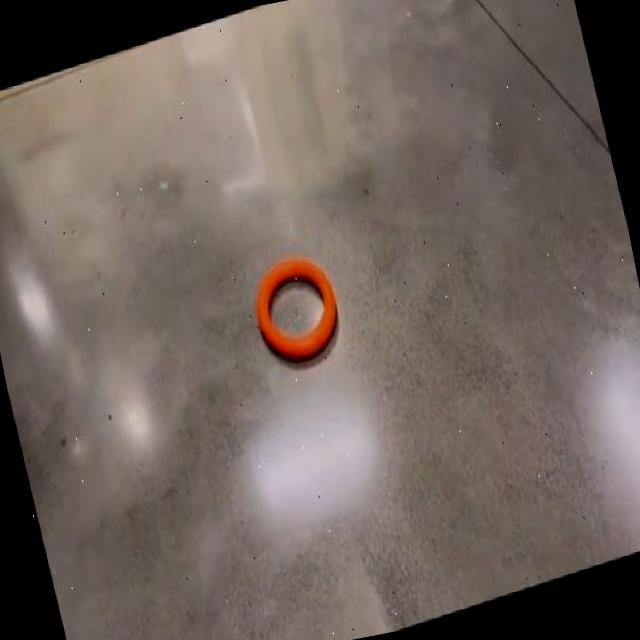note: (257, 256, 336, 359)
